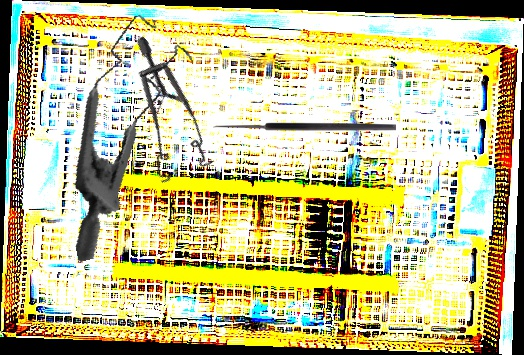Hook Surgical: (213, 122, 396, 140)
Speculum: (27, 5, 232, 263), (77, 35, 243, 199)
